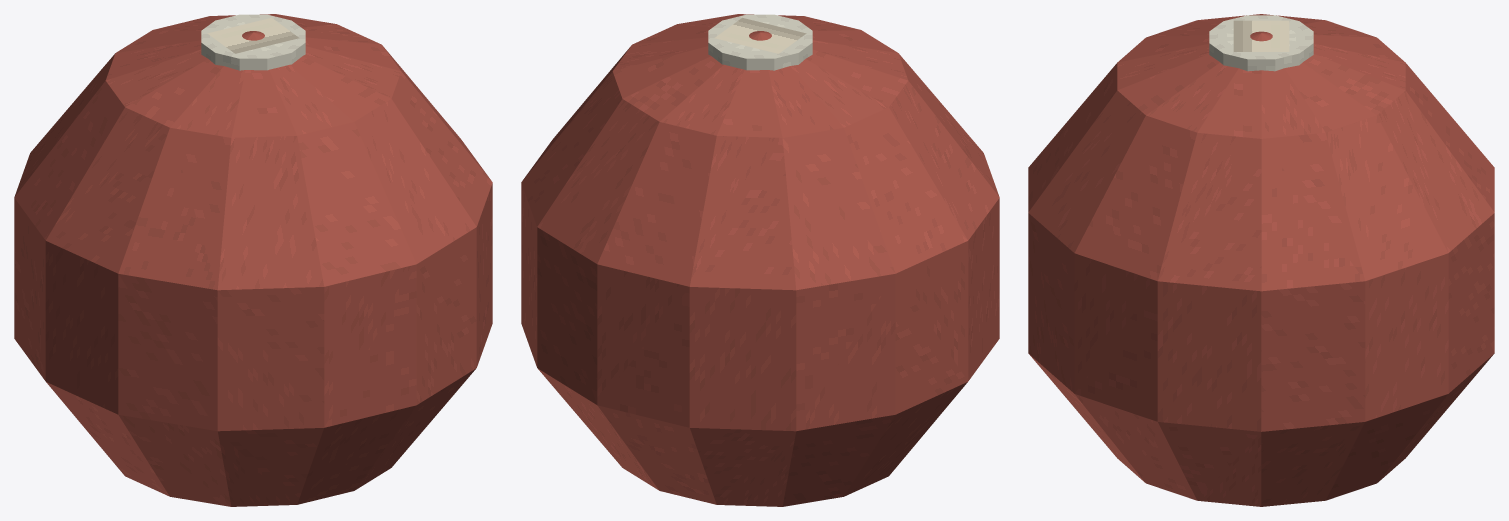
The model's file is pool_ball.glb.
The picture shows the model from 3 angles, left to right: view 1: azimuth 30°, elevation 25°; view 2: azimuth 150°, elevation 25°; view 3: azimuth 270°, elevation 25°; orthographic projection.
Visible parts, largest first — view 1: block_ball body, block_white number inset, block_ball number; view 2: block_ball body, block_white number inset, block_ball number; view 3: block_ball body, block_white number inset, block_ball number.
Boxes of the visible parts, <box> form: block_ball body: <box>14,14,492,506</box>; block_white number inset: <box>201,14,305,70</box>; block_ball number: <box>207,17,299,53</box>; block_ball body: <box>521,14,999,506</box>; block_white number inset: <box>708,14,812,70</box>; block_ball number: <box>714,17,806,53</box>; block_ball body: <box>1028,14,1494,506</box>; block_white number inset: <box>1209,15,1313,71</box>; block_ball number: <box>1233,20,1289,51</box>.
Bounding box in the file's own units: 0.0543 × 0.057 × 0.053.
1 material, 1 textured.
